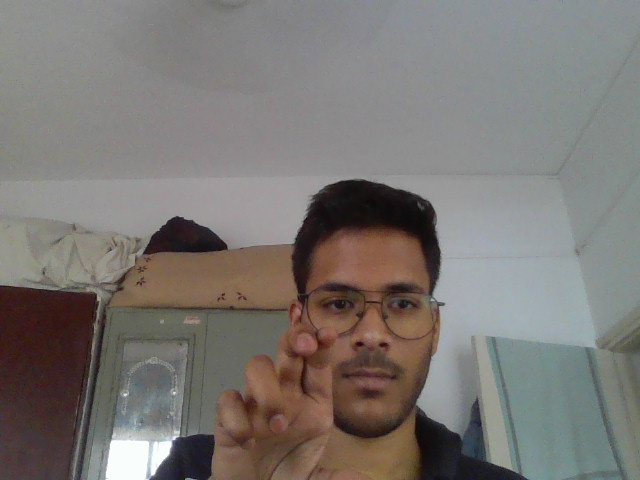no: (186, 324, 386, 480)
